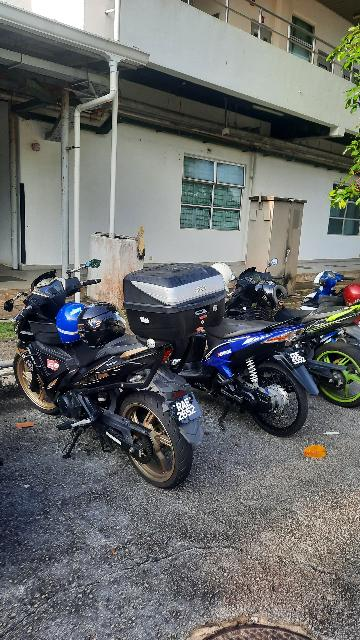License_Plate: (166, 393, 213, 430), (283, 348, 314, 369)
motorcycle: (7, 259, 203, 492), (234, 266, 360, 441)
